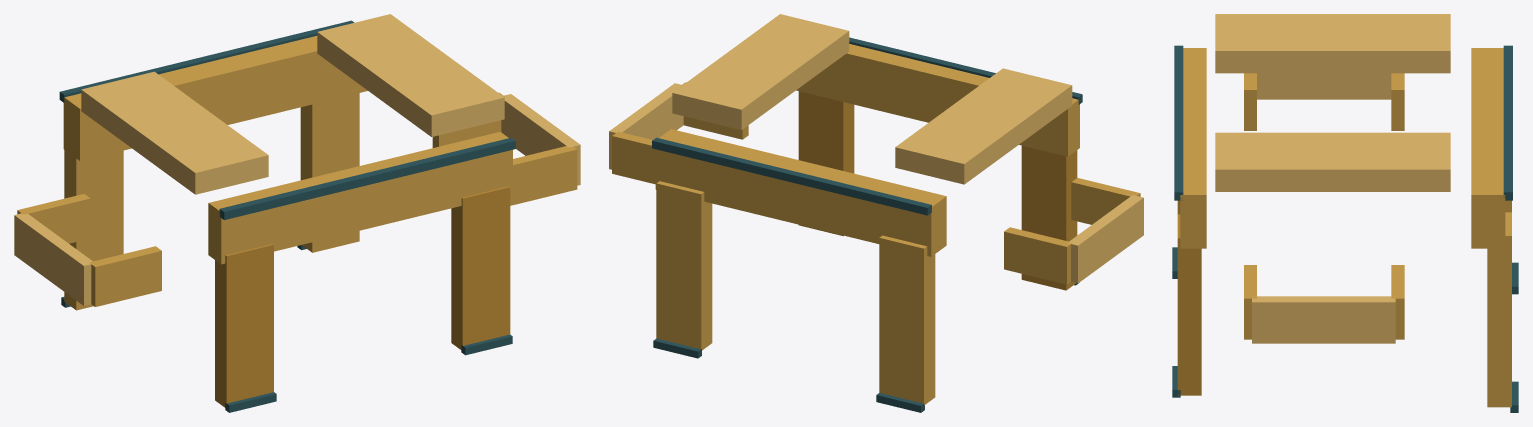
Rendered from lwf_steward_yoke_cue_v1.glb.
3 views of the same model, side by side, from view 1: azimuth 30°, elevation 25°; view 2: azimuth 150°, elevation 25°; view 3: azimuth 270°, elevation 25° (orthographic). The views are drawn at different scales.
Parts seen in each view (by area): view 1: LWF_StewardV1_AmberYoke, LWF_StewardV1_UpperArmBands, LWF_StewardV1_TealEdge; view 2: LWF_StewardV1_AmberYoke, LWF_StewardV1_UpperArmBands, LWF_StewardV1_TealEdge; view 3: LWF_StewardV1_AmberYoke, LWF_StewardV1_UpperArmBands, LWF_StewardV1_TealEdge.
Boxes of the visible parts, x1,y1,x2,y2 form: LWF_StewardV1_AmberYoke: (63, 14, 512, 407); LWF_StewardV1_UpperArmBands: (14, 92, 580, 306); LWF_StewardV1_TealEdge: (59, 20, 515, 412); LWF_StewardV1_AmberYoke: (655, 14, 1079, 405); LWF_StewardV1_UpperArmBands: (609, 82, 1143, 284); LWF_StewardV1_TealEdge: (652, 37, 1082, 412); LWF_StewardV1_AmberYoke: (1177, 14, 1511, 407); LWF_StewardV1_UpperArmBands: (1244, 73, 1404, 343); LWF_StewardV1_TealEdge: (1172, 45, 1518, 412).
Bounding box in the file's own units: 0.766 × 0.3575 × 0.449.
Materials: 1 (1 with a texture image).
